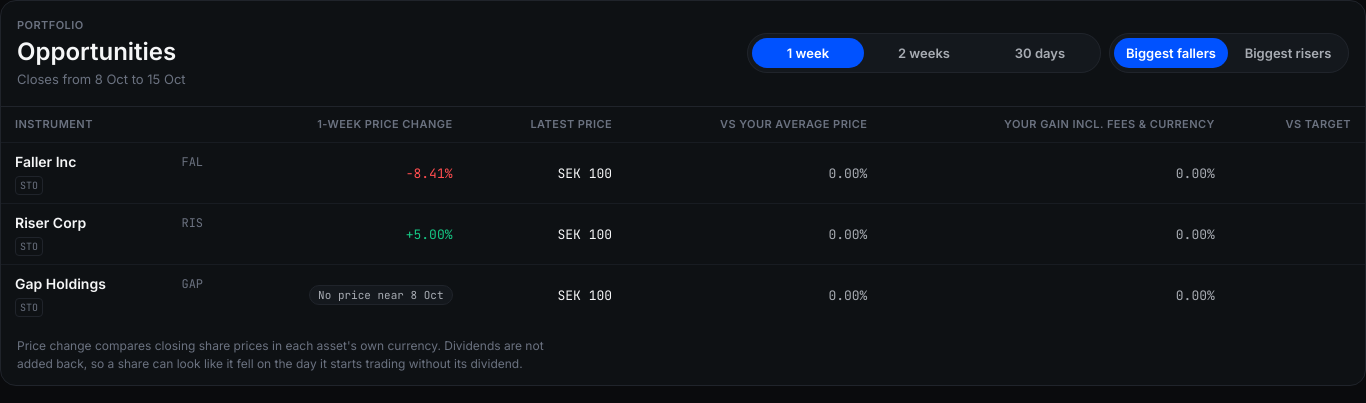
Test case: OpportunitiesPage › switches the window and requests that window's data
Expected: the column heading "1-week price change" is shown, [217,107,466,143]
Expected: the text "Closes from 8 Oct to 15 Oct" is shown, [17,70,186,90]
What coordinates should you click on to do the following:
click the button "30 days"
I would click on:
 (1040, 53)
Its box is [984,38,1096,68].
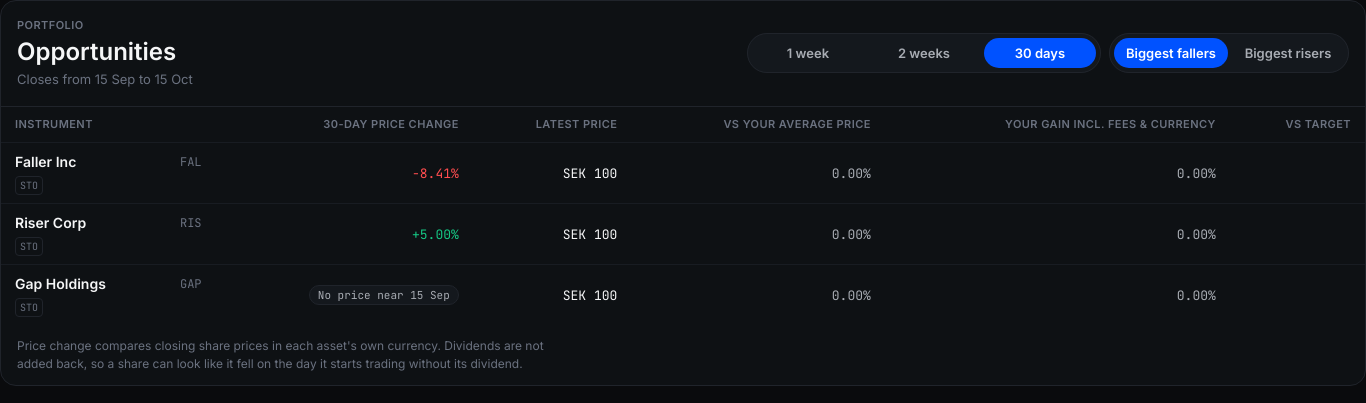
Expected: the column heading "30-day price change" is shown, [216,107,473,143]
